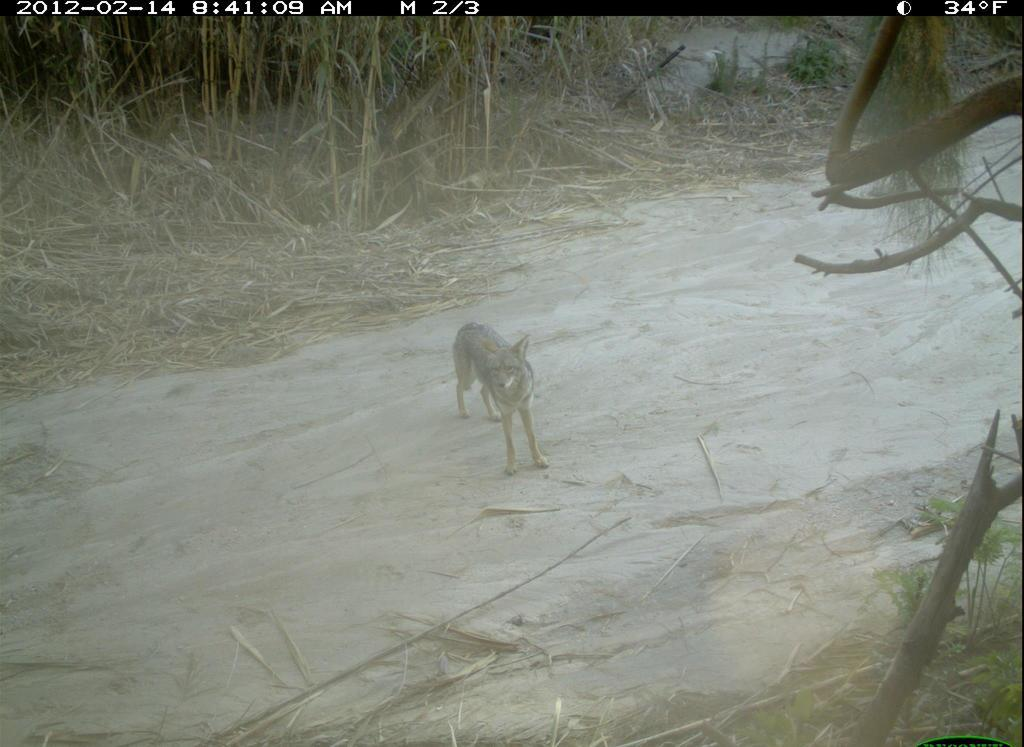coyote: (450, 315, 564, 477)
